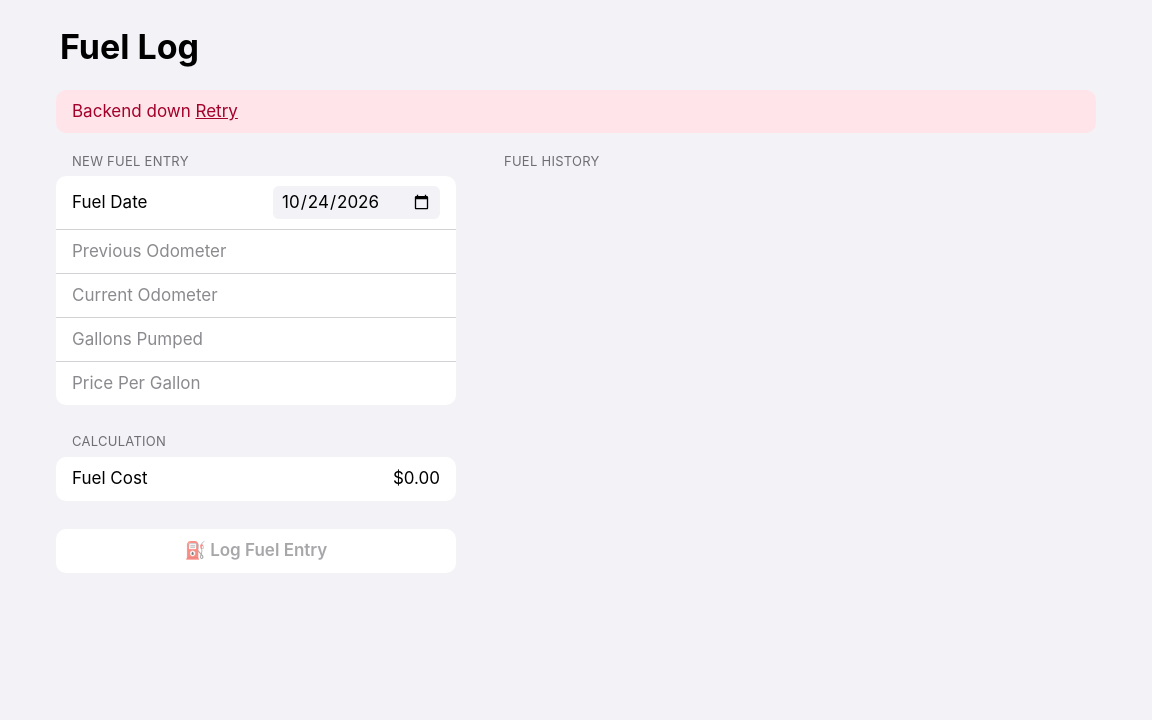
Scenario: loading › shows a load error and retries
Expected: the message shows "Backend down", [72,101,191,121]
Click the button "Retry": (217, 111) [196,100,238,123]
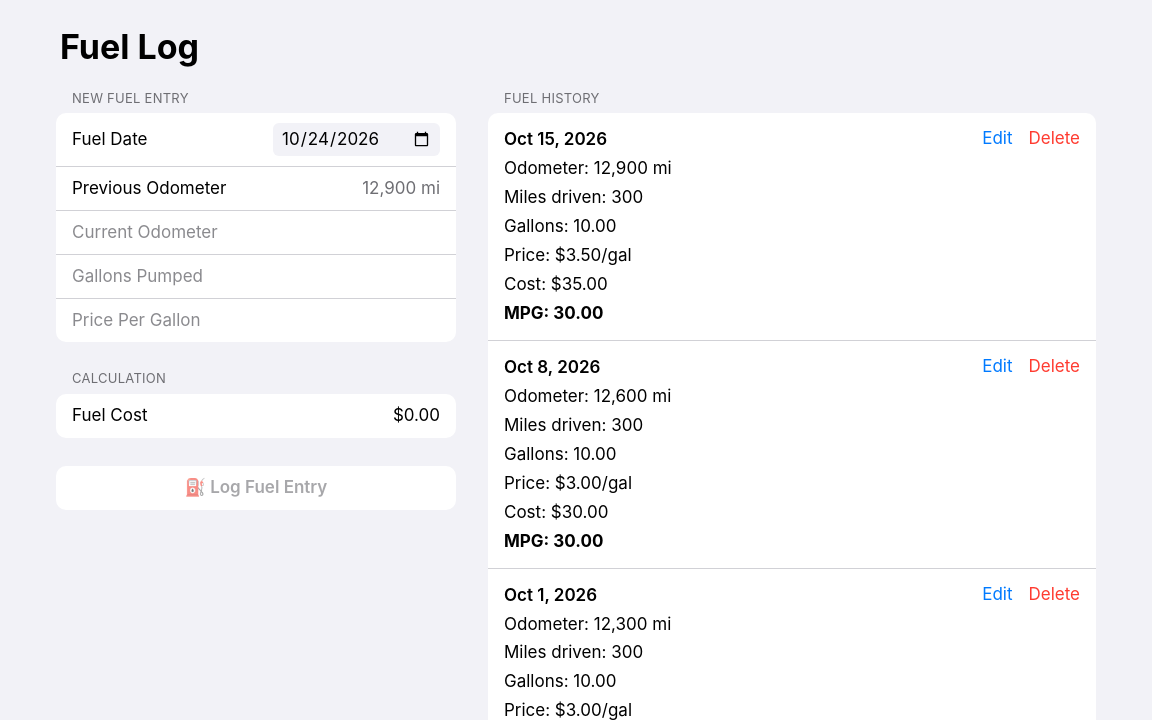
Result: the text "Oct 15, 2026" is shown at [504,129,607,149]
Result: the text "Backend down" is gone
